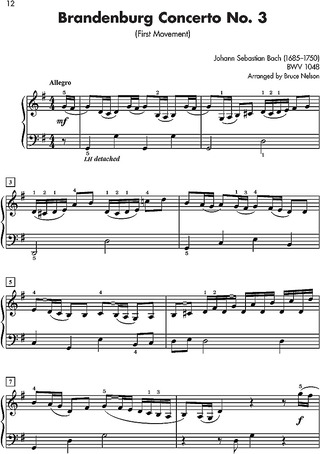Partitura: (1, 2, 320, 451)
